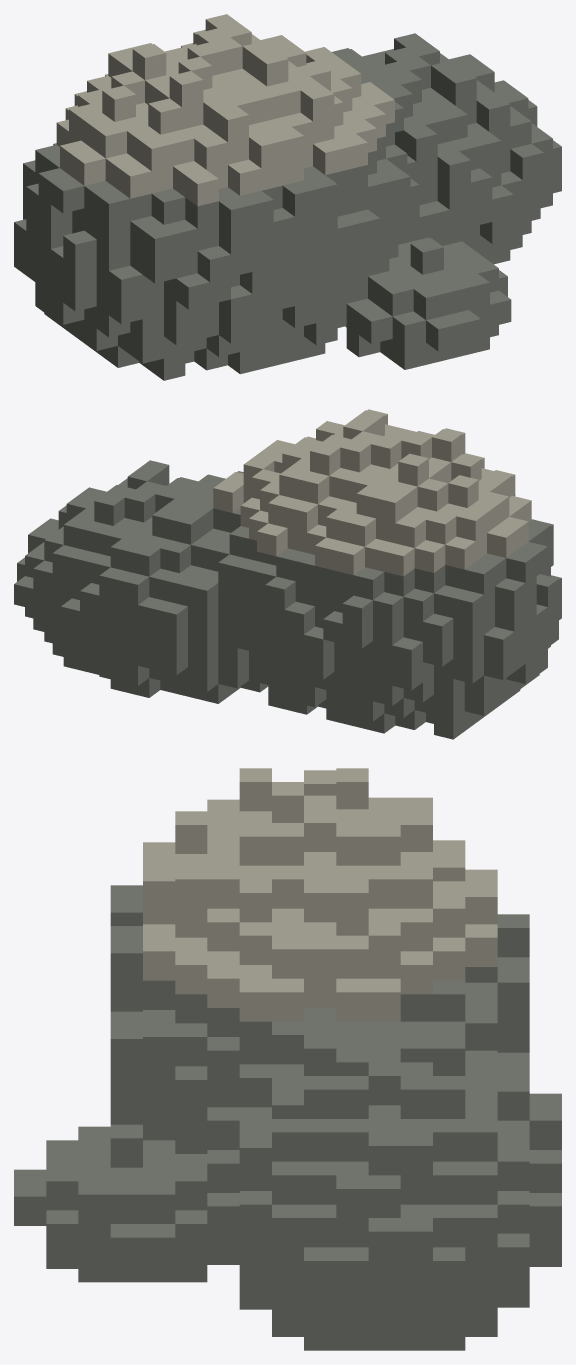
Rendered from layered_rock_v2_species2_near.glb.
3 renders of one model, top to bottom at view 1: azimuth 30°, elevation 25°; view 2: azimuth 150°, elevation 25°; view 3: azimuth 270°, elevation 25°, orthographic. The views are drawn at different scales.
Visible parts, largest first — view 1: layered_rock_v2_species2_near; view 2: layered_rock_v2_species2_near; view 3: layered_rock_v2_species2_near.
Part boxes in pixels (x1=…): layered_rock_v2_species2_near: x1=14, y1=14, x2=561, y2=380; layered_rock_v2_species2_near: x1=14, y1=409, x2=561, y2=739; layered_rock_v2_species2_near: x1=14, y1=768, x2=561, y2=1350.
Bounding box in the file's own units: 3 × 1.5 × 2.12.
Materials: 1 (1 with a texture image).
